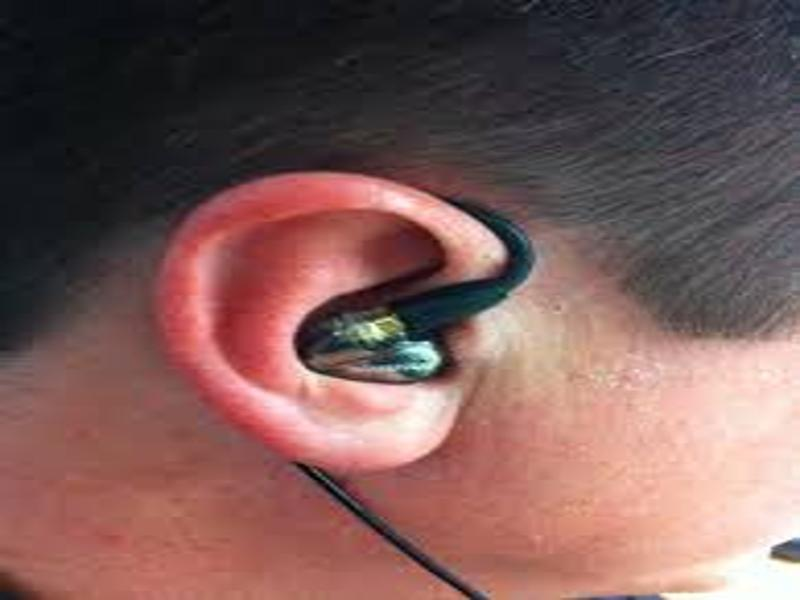headphone: (302, 287, 452, 393)
